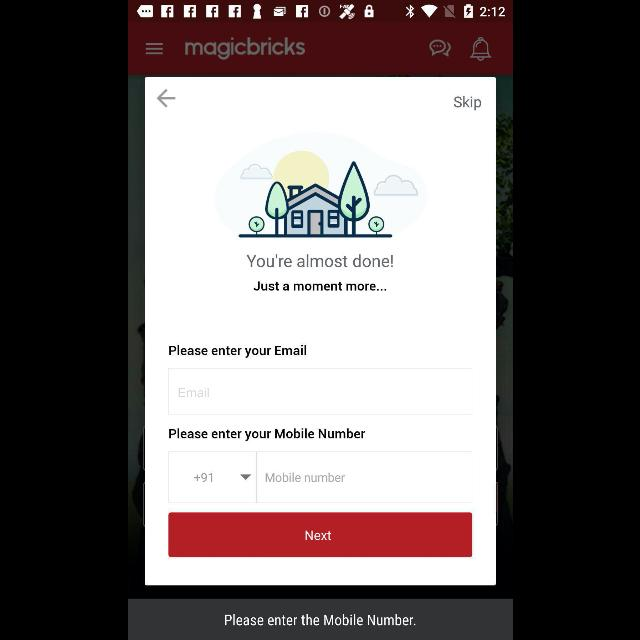icon: (469, 37, 491, 61), (428, 40, 450, 58), (157, 89, 176, 108), (145, 43, 163, 55)
image: (214, 132, 428, 238)
input: (167, 368, 471, 416), (256, 451, 472, 503)
panel: (144, 77, 496, 585)
text: (184, 38, 304, 61), (168, 429, 364, 441), (246, 255, 392, 268), (168, 346, 306, 358), (253, 282, 385, 290), (264, 472, 344, 482), (454, 96, 481, 110), (178, 388, 208, 398)
textbutton: (128, 598, 512, 640), (168, 512, 472, 558), (168, 451, 256, 503)
uppertaskbar: (128, 1, 512, 23)
